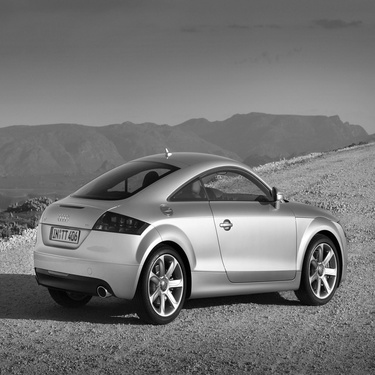car: (19, 143, 353, 329)
